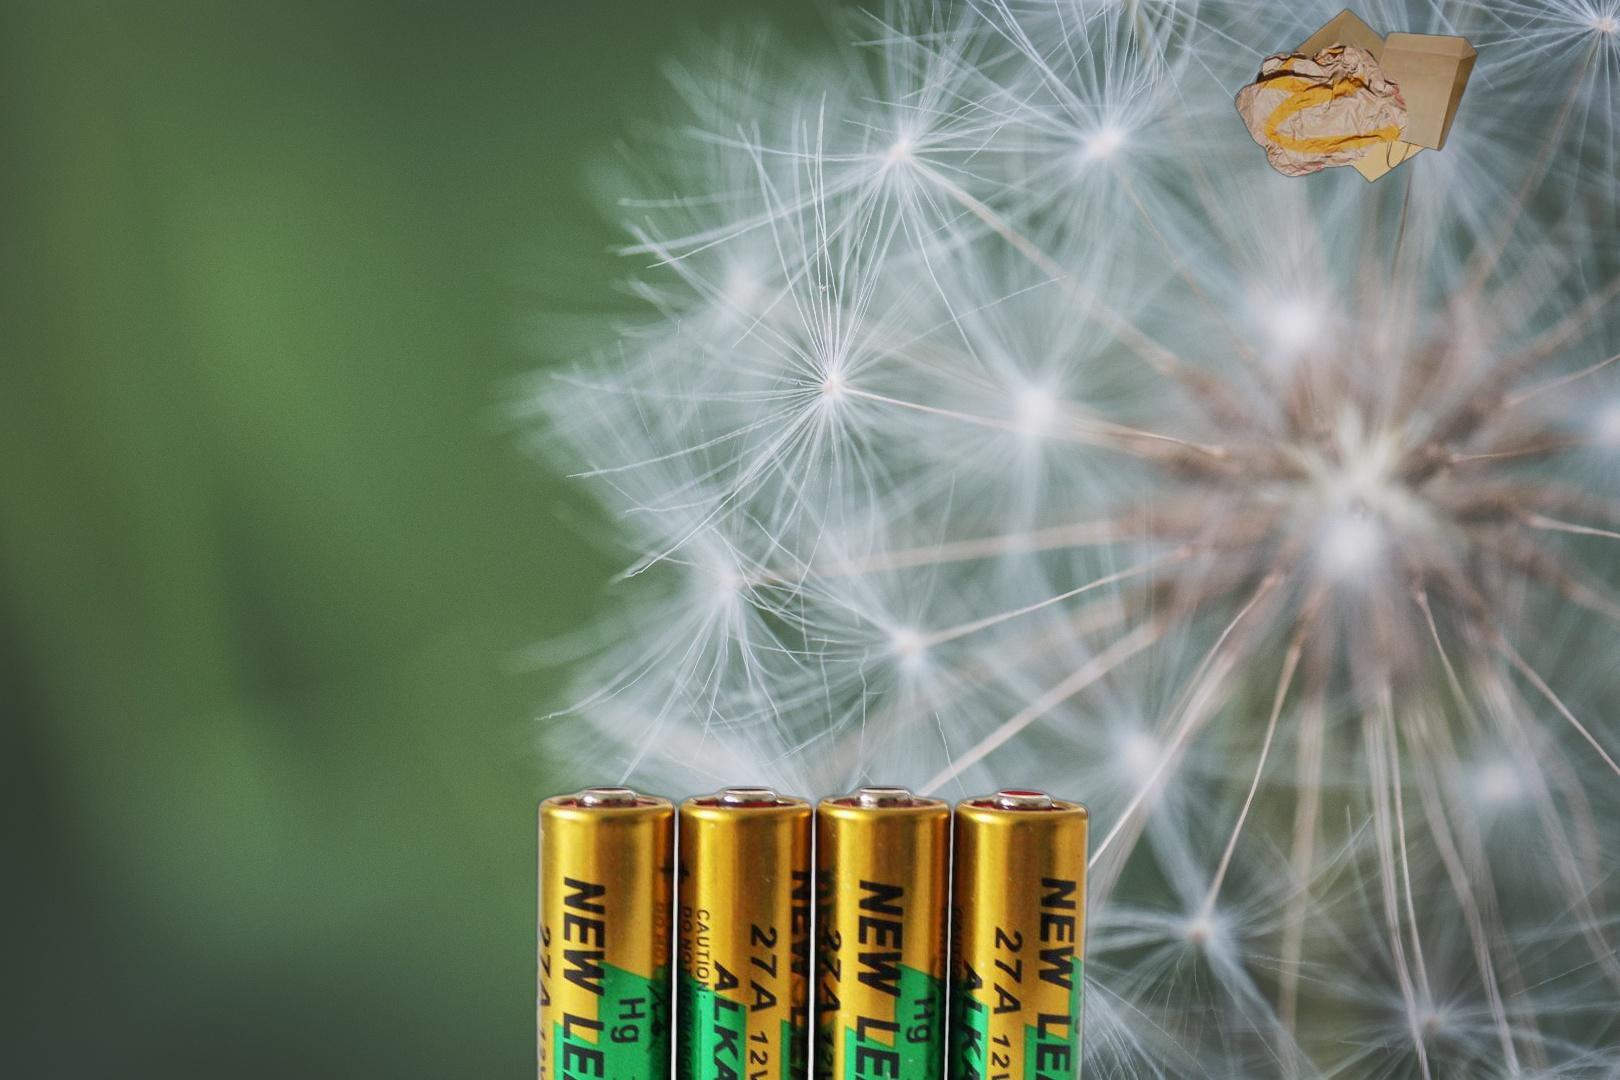battery: (529, 780, 1097, 1080)
paper-bag: (1232, 6, 1481, 186)
